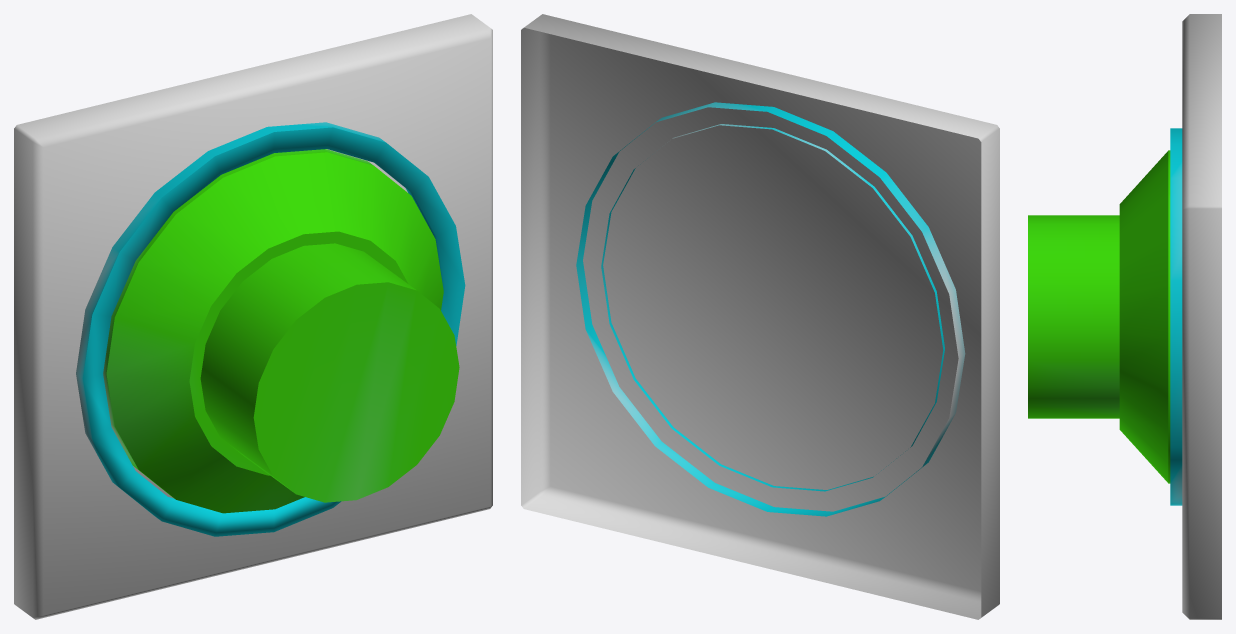
Rendered from mod_locking_wheel_T.fbx.
3 views of the same model, side by side, from view 1: azimuth 30°, elevation 25°; view 2: azimuth 150°, elevation 25°; view 3: azimuth 270°, elevation 25° (orthographic). The views are drawn at different scales.
Parts seen in each view (by area): view 1: module_base3, wheel; view 2: module_base3; view 3: wheel, module_base3.
Boxes of the visible parts, x1,y1,x2,y2 form: module_base3: (14,14,492,619); wheel: (103,149,459,513); module_base3: (521,14,999,619); wheel: (1028,150,1170,483); module_base3: (1170,14,1221,619).
Bounding box in the file's own units: 6 × 6 × 2.54.
